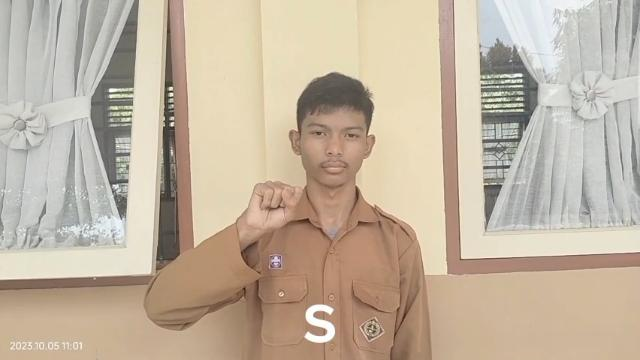S: (247, 179, 306, 233)
